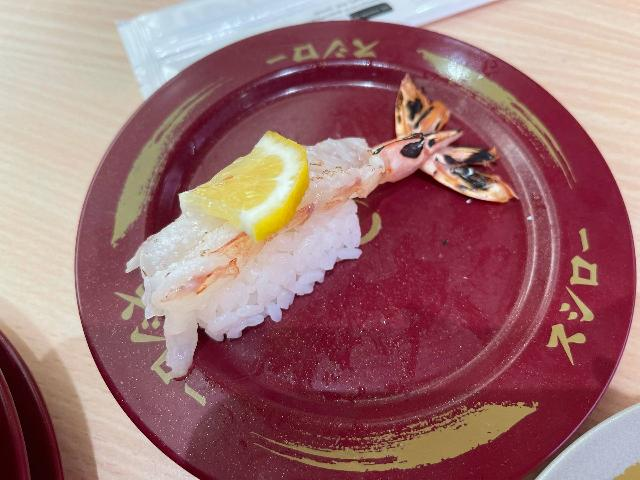janred: (90, 31, 600, 455)
janwhite: (580, 422, 640, 474), (33, 409, 35, 427)
